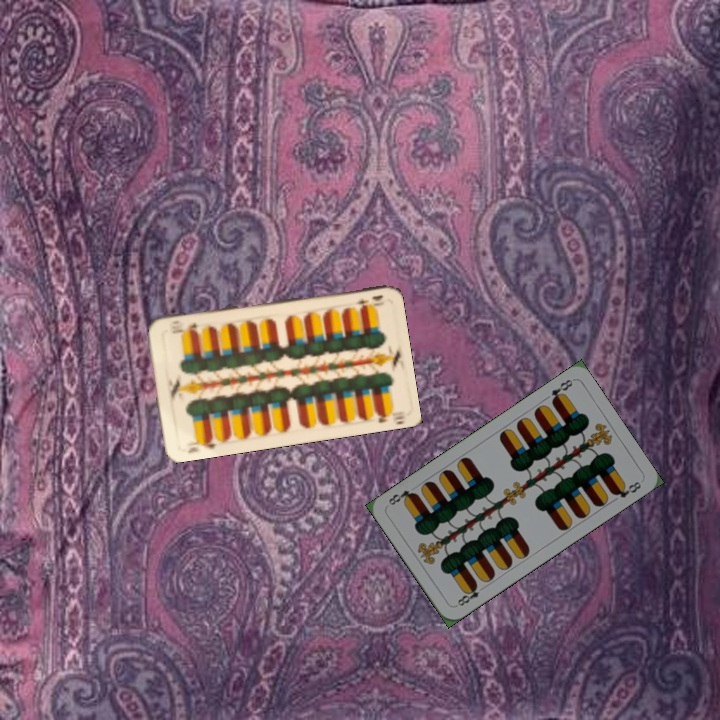E10: (183, 433, 218, 456), (351, 291, 386, 308)
E8: (451, 580, 488, 609), (547, 375, 575, 406)
